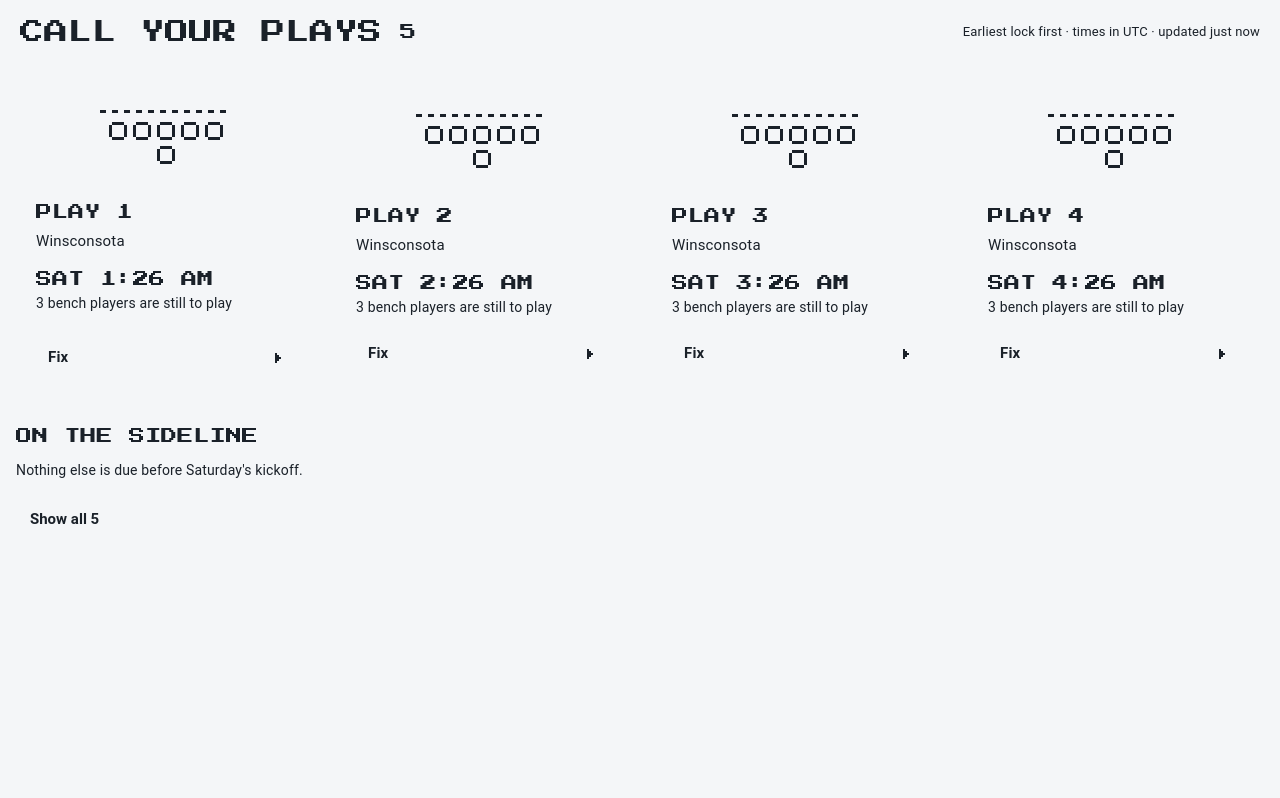
Scenario: the play cards › more than 4 plays hide the rest behind Show all, which reveals them
This screenshot has width=1280, height=798.
expect the link with aria-label "Play 1." is shown: met, box [36,98,284,366]
expect the text "Play 5" is not shown: met
Click the button "Show all 5".
click(65, 518)  # box [12,496,117,540]
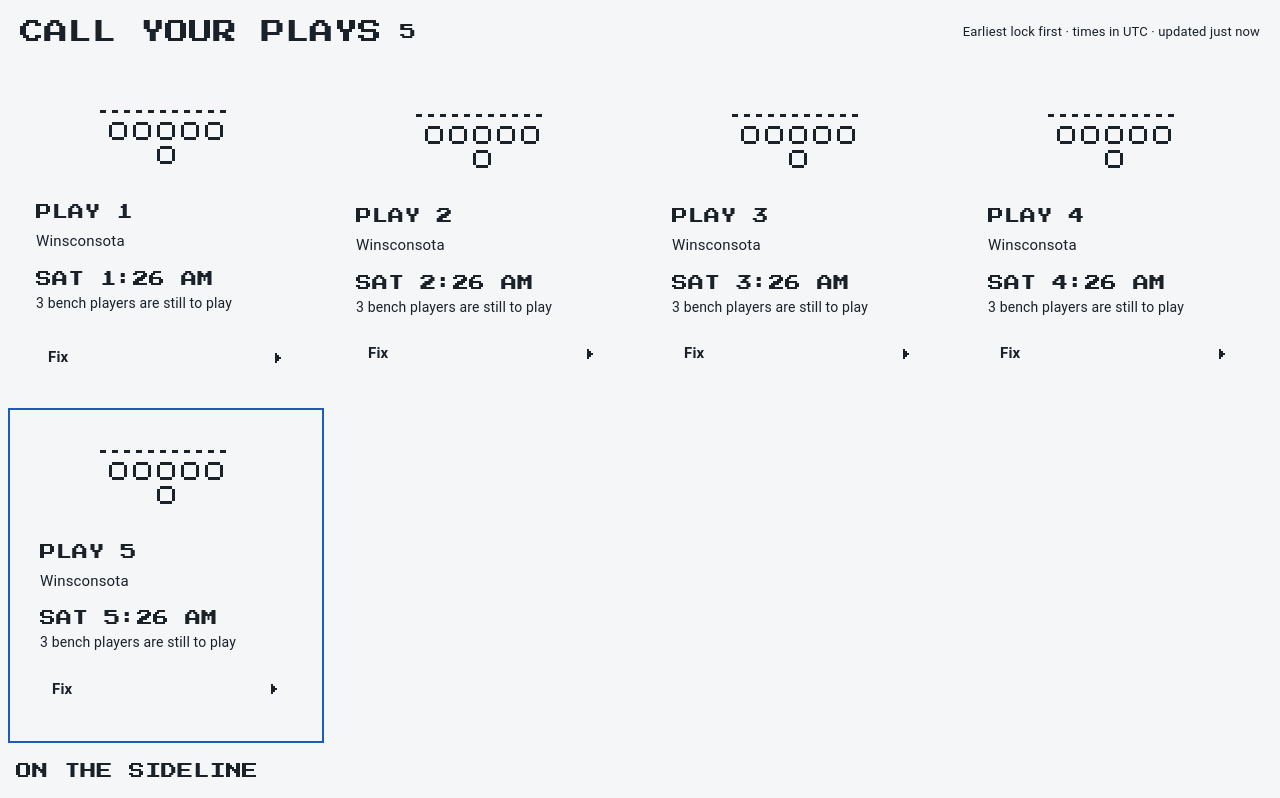
expect the number of links named "Next up: Play 1. Fix in Winsconsota, Sat 1:26 AM" is 5: met, box [36,98,284,366]; [356,102,596,362]; [672,102,912,362]; [988,102,1228,362]; [40,438,280,698]
expect the button "Show all" is gone: met
